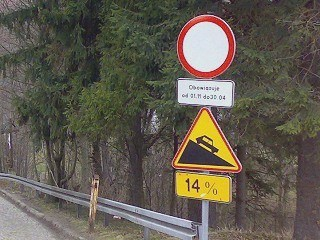no_entry_sign: (176, 14, 236, 79)
